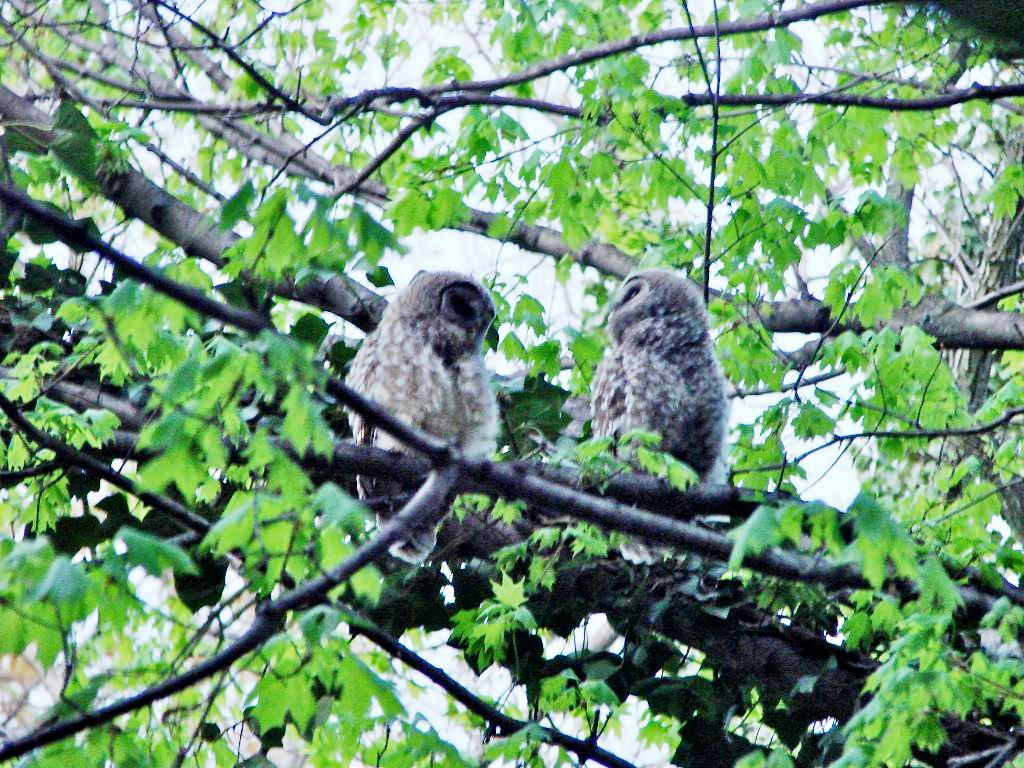Owl: (336, 266, 506, 558), (572, 265, 744, 500)
